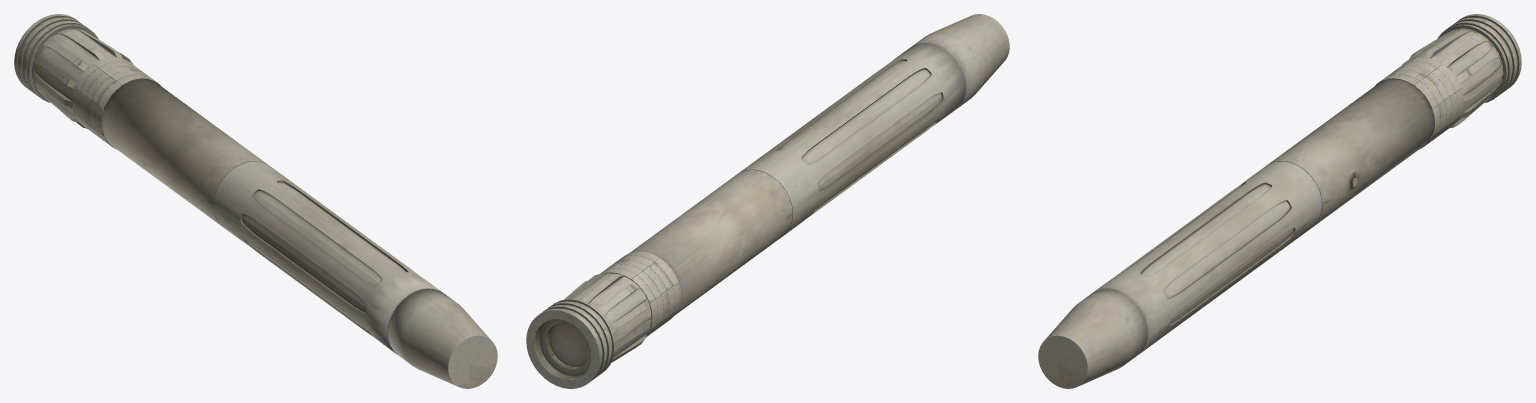
File: sable_luz.glb
3 renders of one model, left to right at view 1: azimuth 30°, elevation 25°; view 2: azimuth 150°, elevation 25°; view 3: azimuth 330°, elevation 25°, orthographic.
Visible parts, largest first — view 1: sable_luz; view 2: sable_luz; view 3: sable_luz.
Boxes of the visible parts, x1,y1,x2,y2 form: sable_luz: [14, 14, 497, 388]; sable_luz: [526, 14, 1009, 388]; sable_luz: [1038, 14, 1521, 388].
Bounding box in the file's own units: 0.0271 × 0.0271 × 0.27.
Materials: 2 (2 with a texture image).
